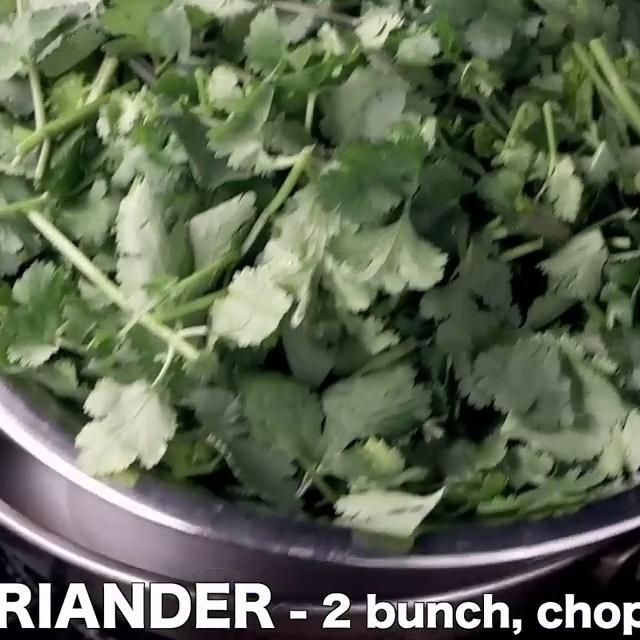cilantro: (1, 0, 640, 446)
